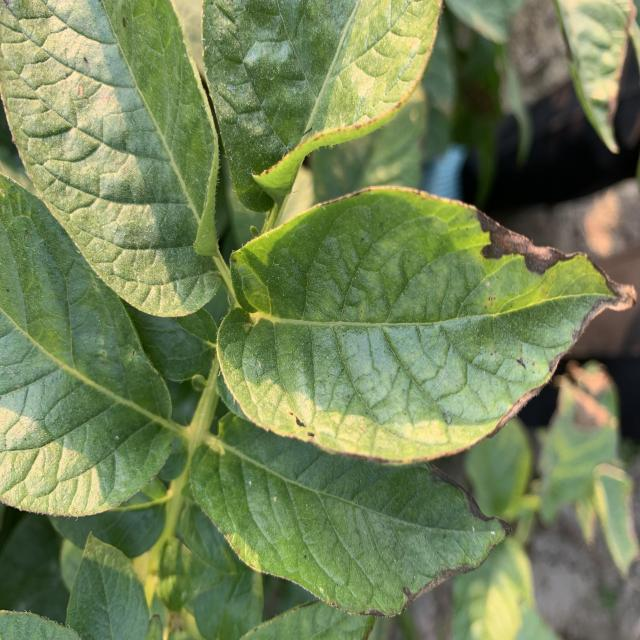lateblight: (476, 210, 569, 275)
